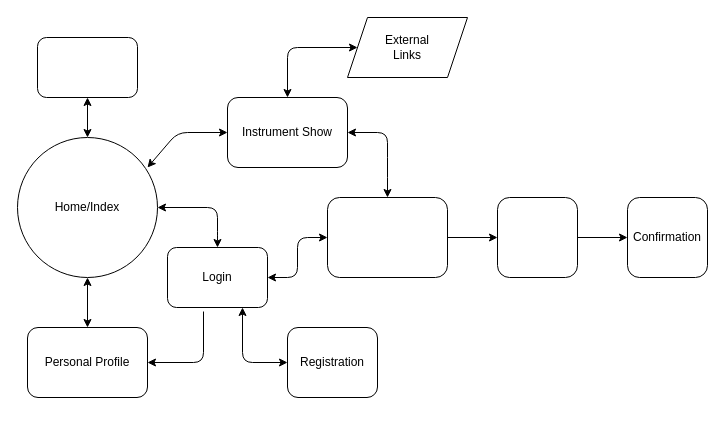
Some shapes in this 725 by 423 pixel diagram are drawn without their labels. Each missing label, with the centre of its shape:
"Checkout" belongs at point (537, 237).
"Shopping Cart" belongs at point (387, 237).
"Store Contact" belongs at point (87, 67).
